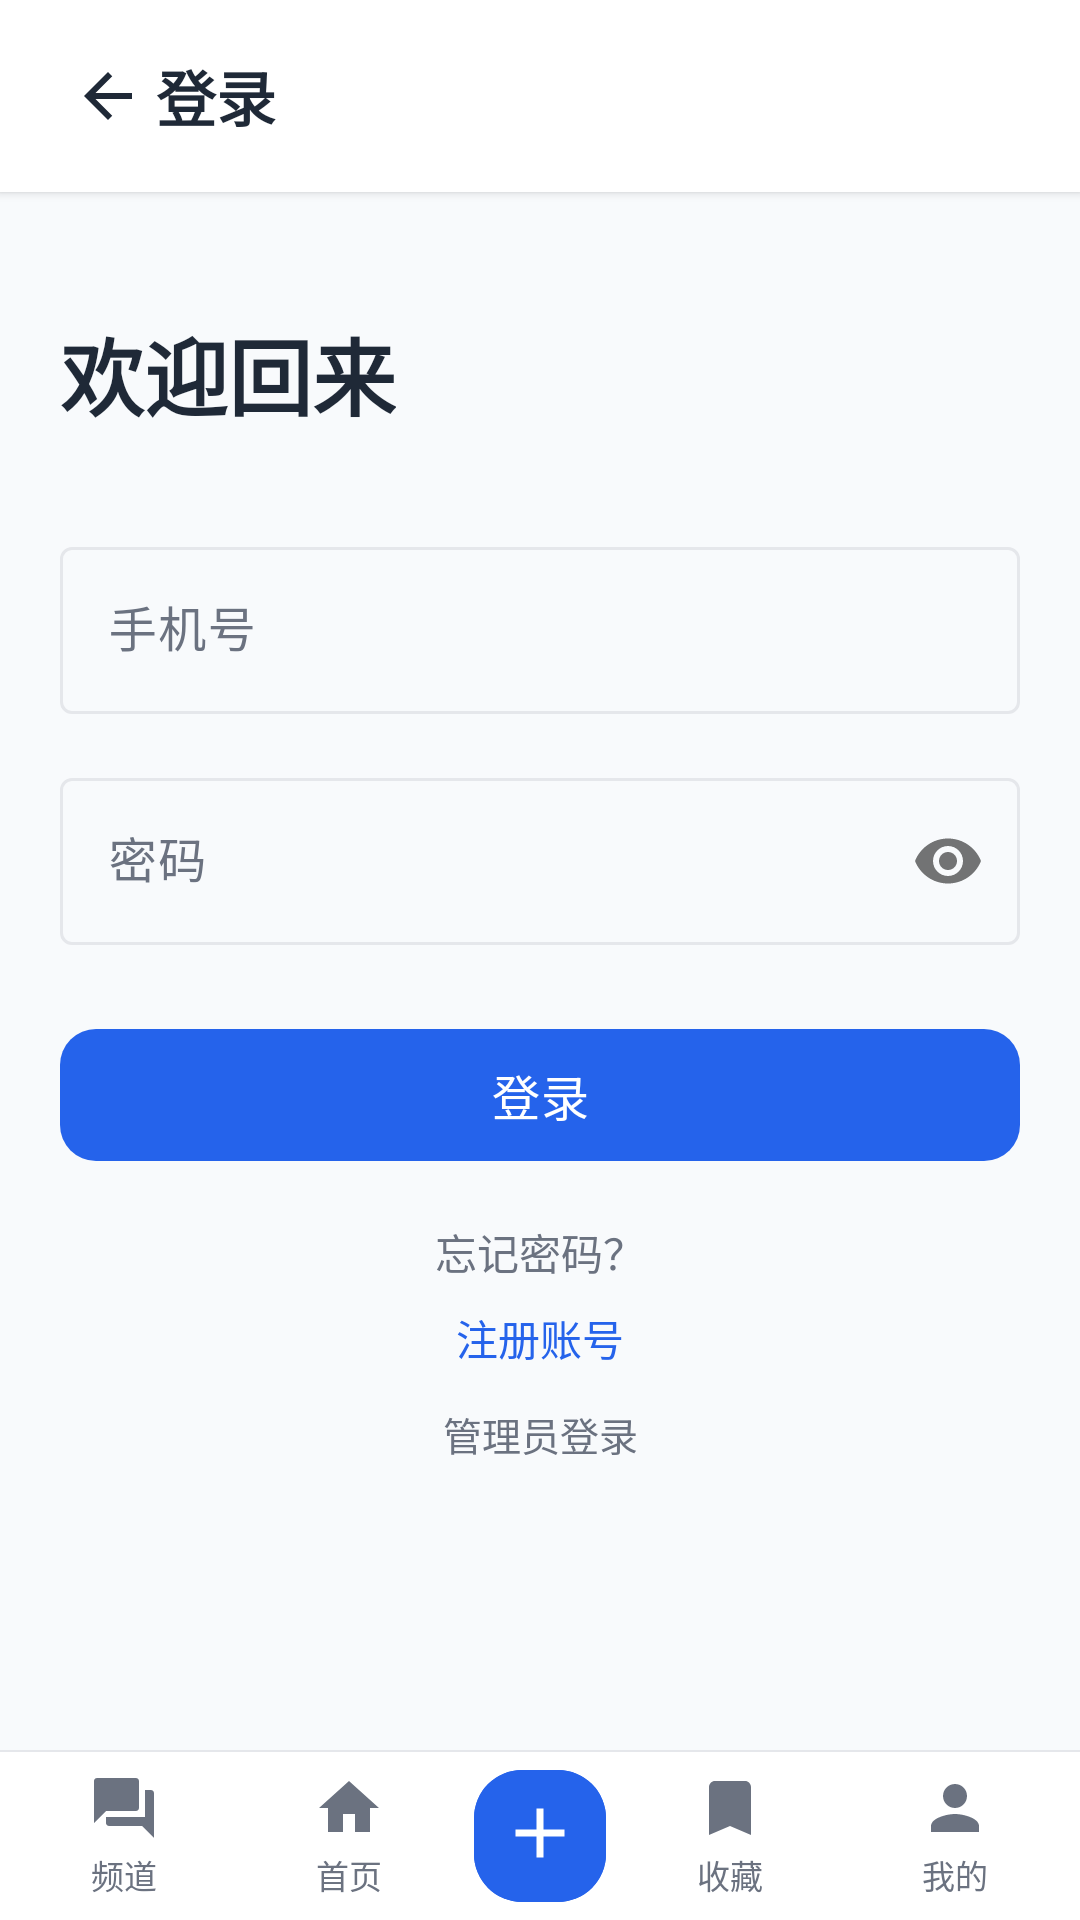

Where to tap for icons on this 1080 × 1920 app screen, as [x,y]:
add: [540,1836]
